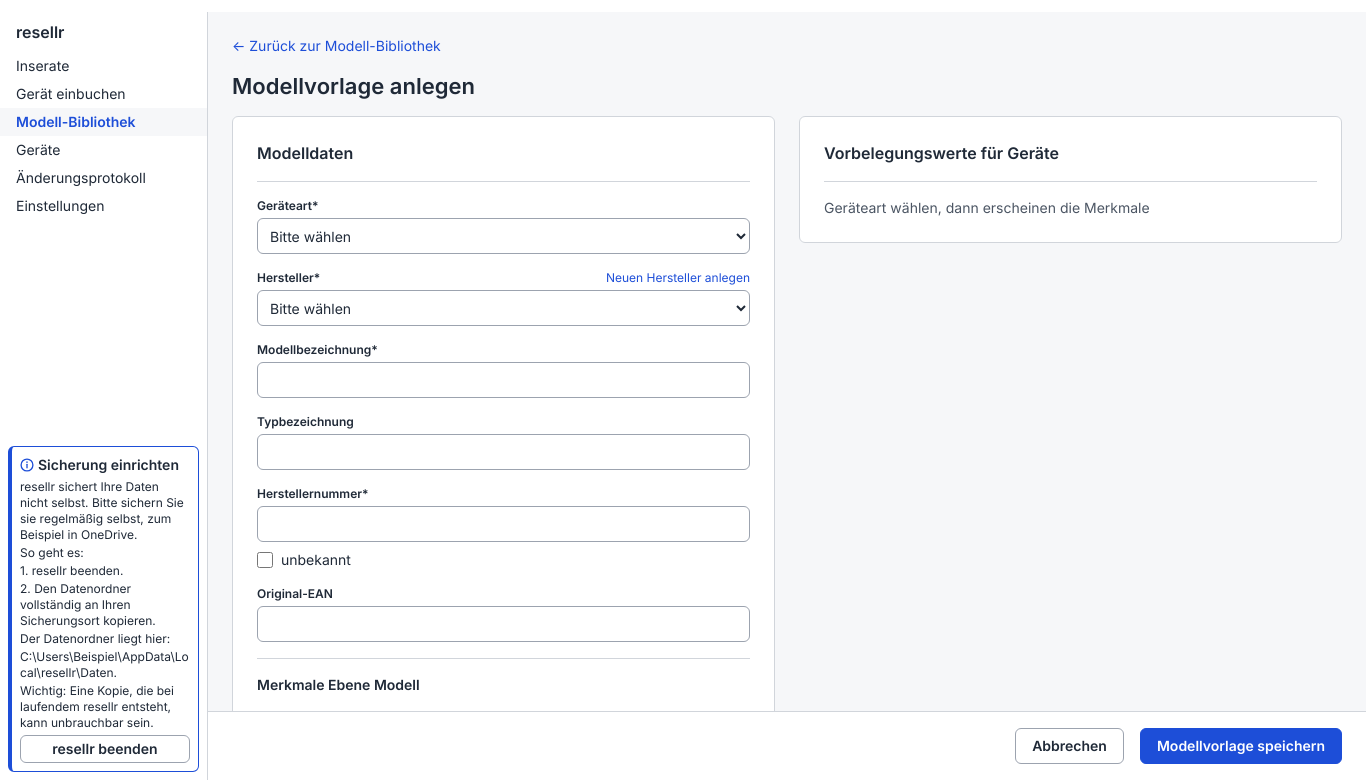
UI-007 attribute fields and device defaults (CU-111, CU-112, CU-114, #178) › AC-REQ-008-05 names a missing required attribute of the level model at its field with the focus there, and sends nothing
Select "Notebook" in the dropdown labelled "Geräteart*": (504, 236) [257,218,750,254]
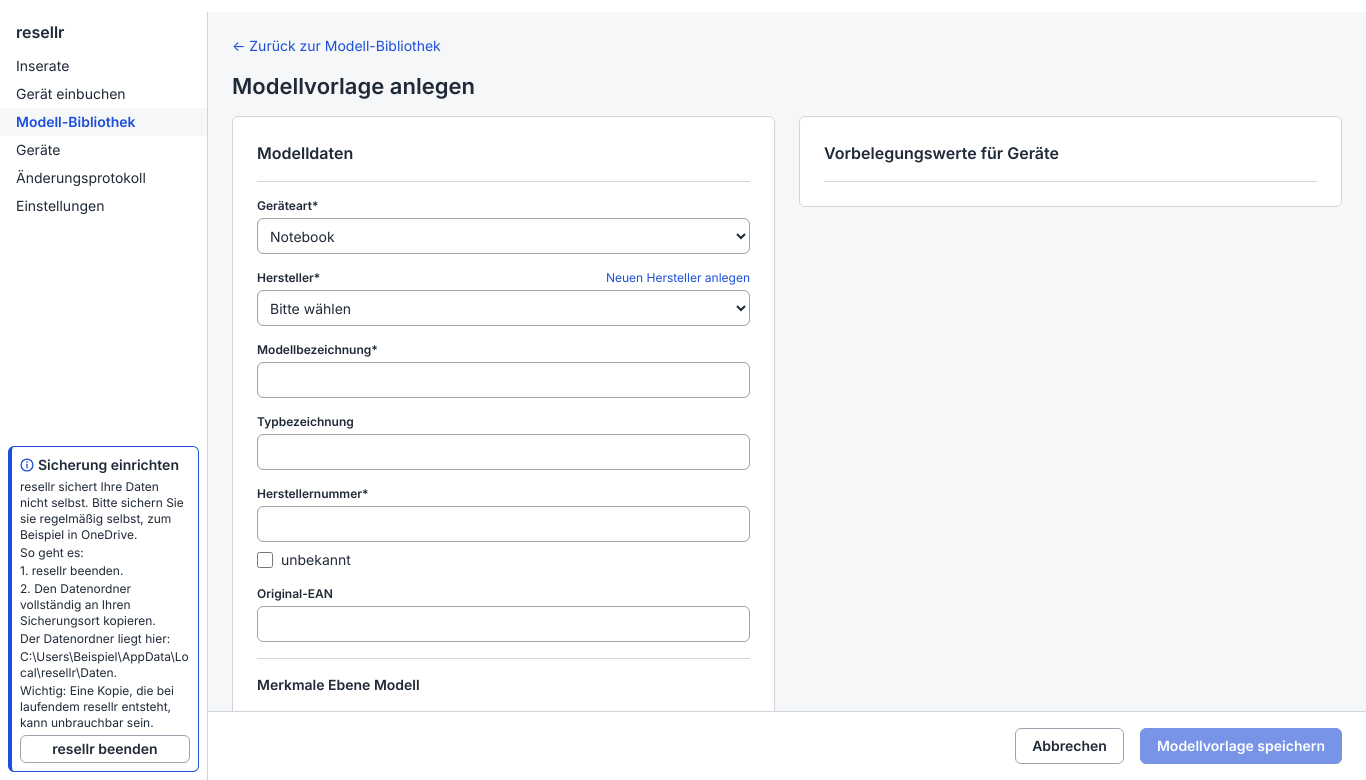
Select "Lenovo" in the dropdown labelled "Hersteller*": (504, 308) [257,290,750,326]
In the field labelled "Modellbezeichnung*": (504, 380) [257,362,750,398], type "ThinkPad E15 Gen 2"
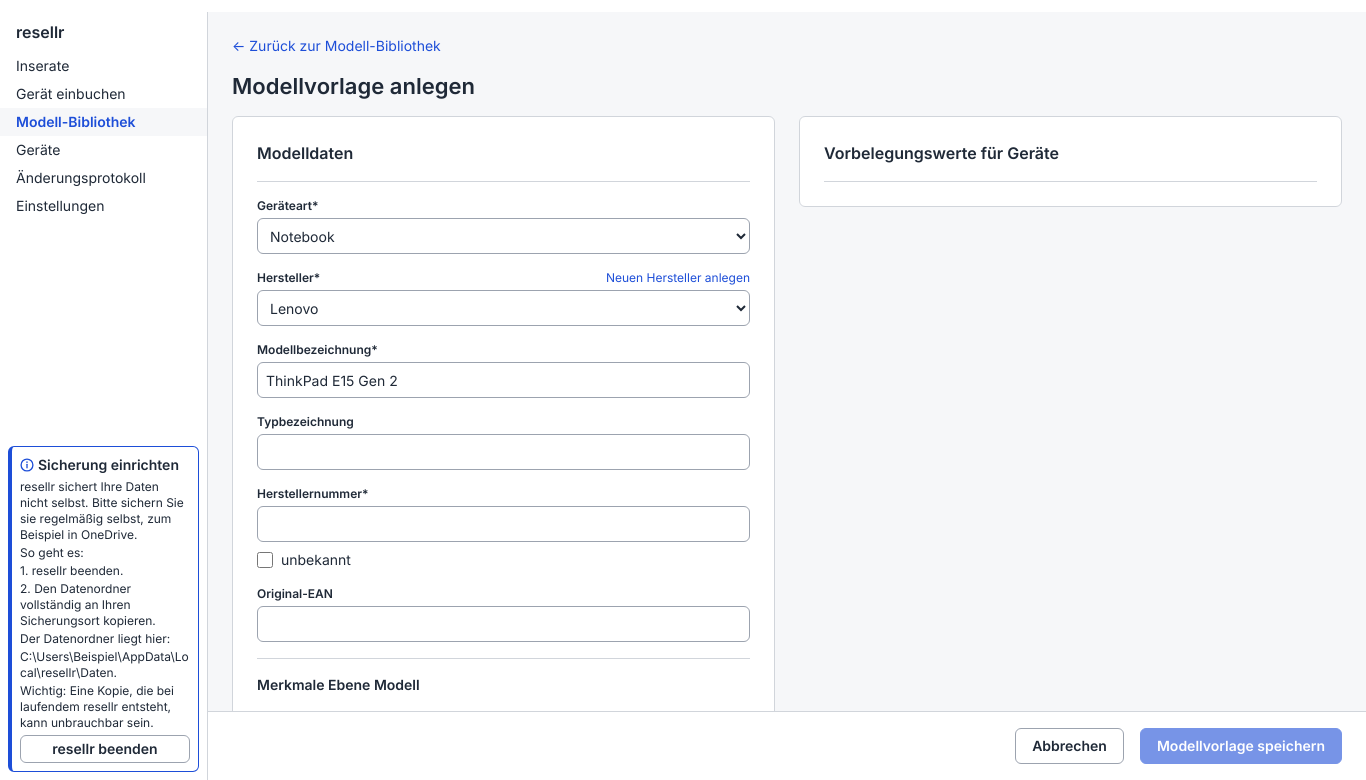
In the field labelled "Herstellernummer*": (504, 524) [257,506,750,542], type "20TD002MGE"
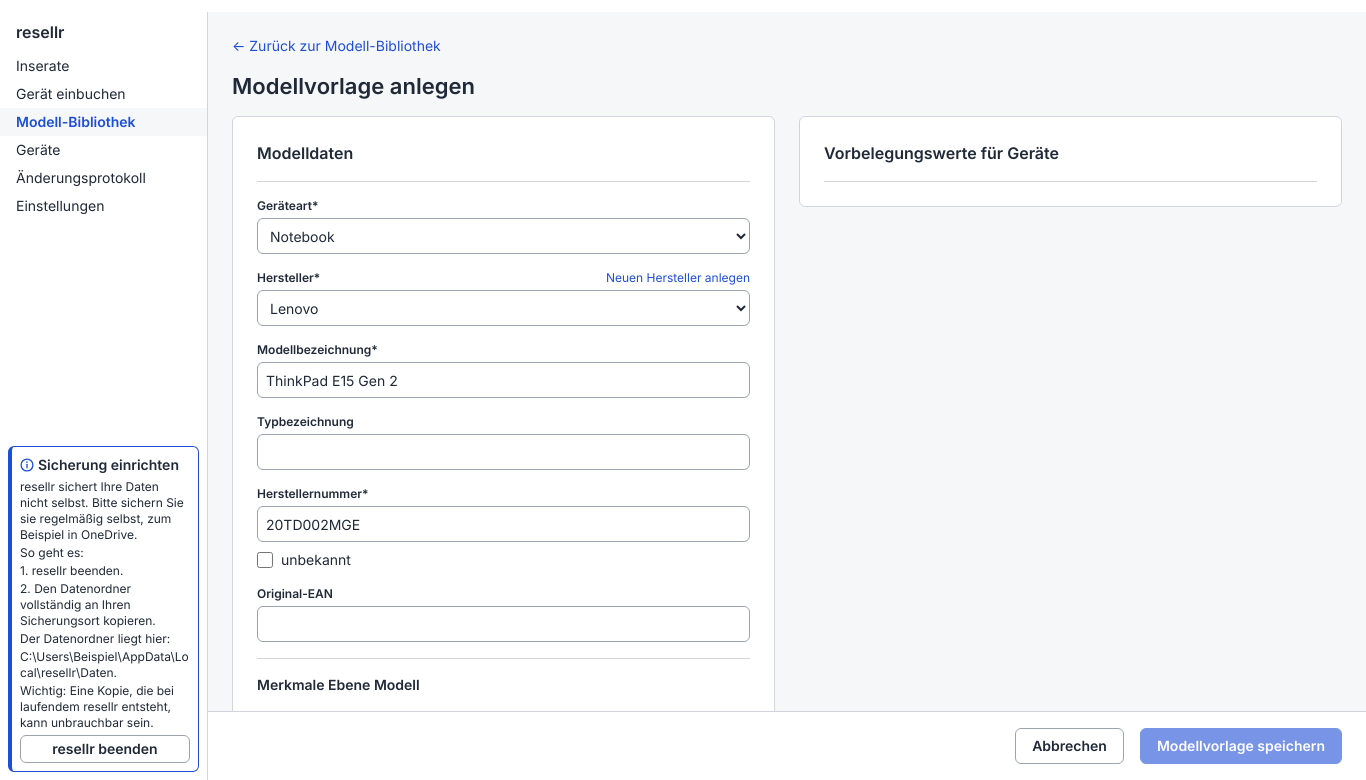
Clear the field labelled "Original-EAN": (504, 624) [257,606,750,642]
(page scrolled)
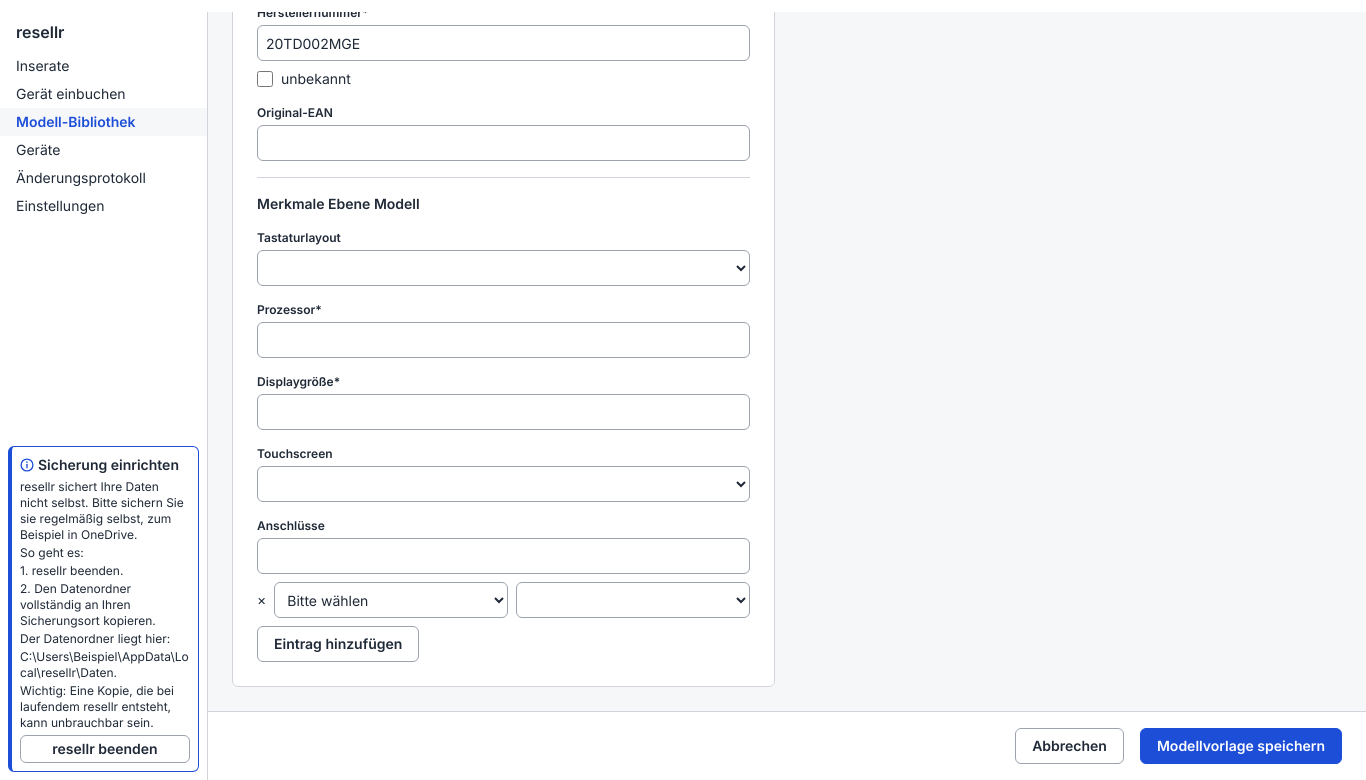
Result: the element named "Merkmale Ebene Modell" is shown at [257,230,750,662]
In the field labelled "Displaygröße*": (504, 412) [257,394,750,430], type "14"
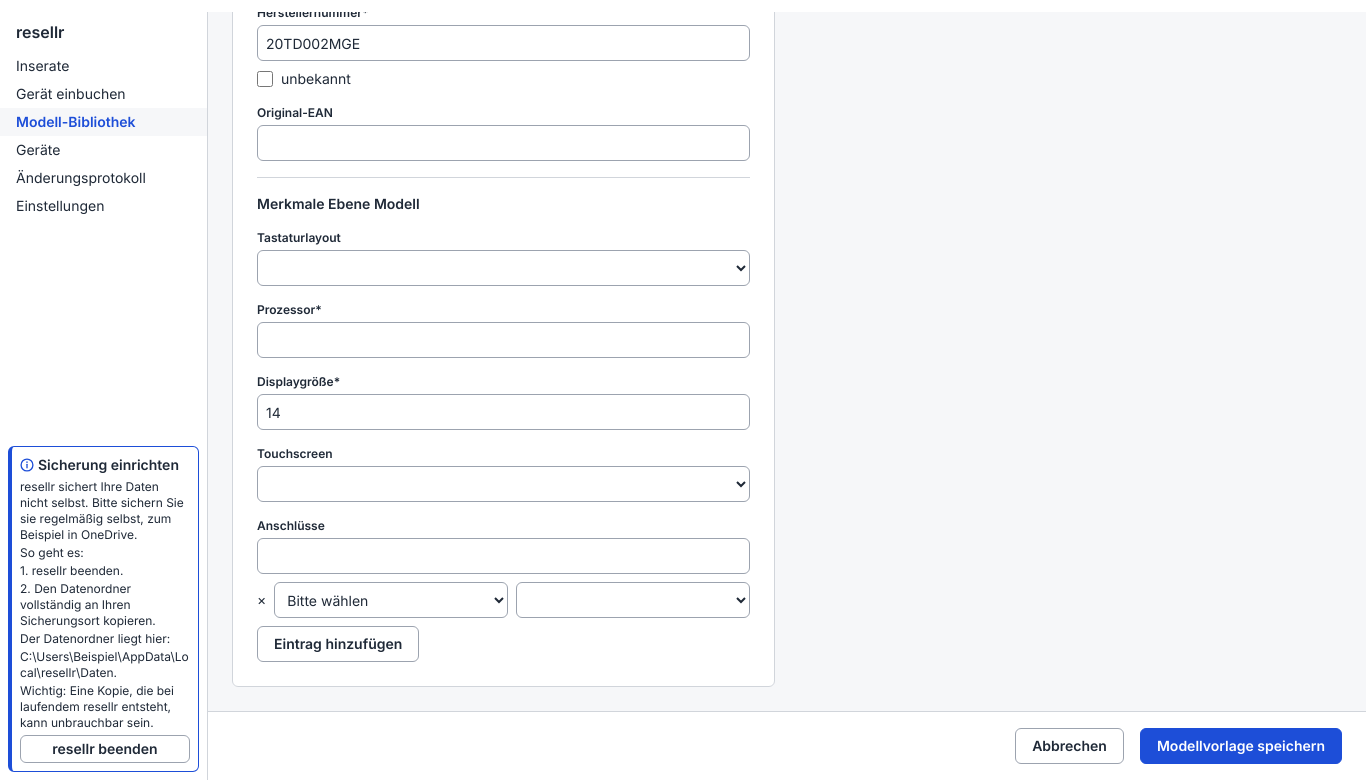
Click the button "Modellvorlage speichern": click(1241, 746) [1140,728,1342,764]
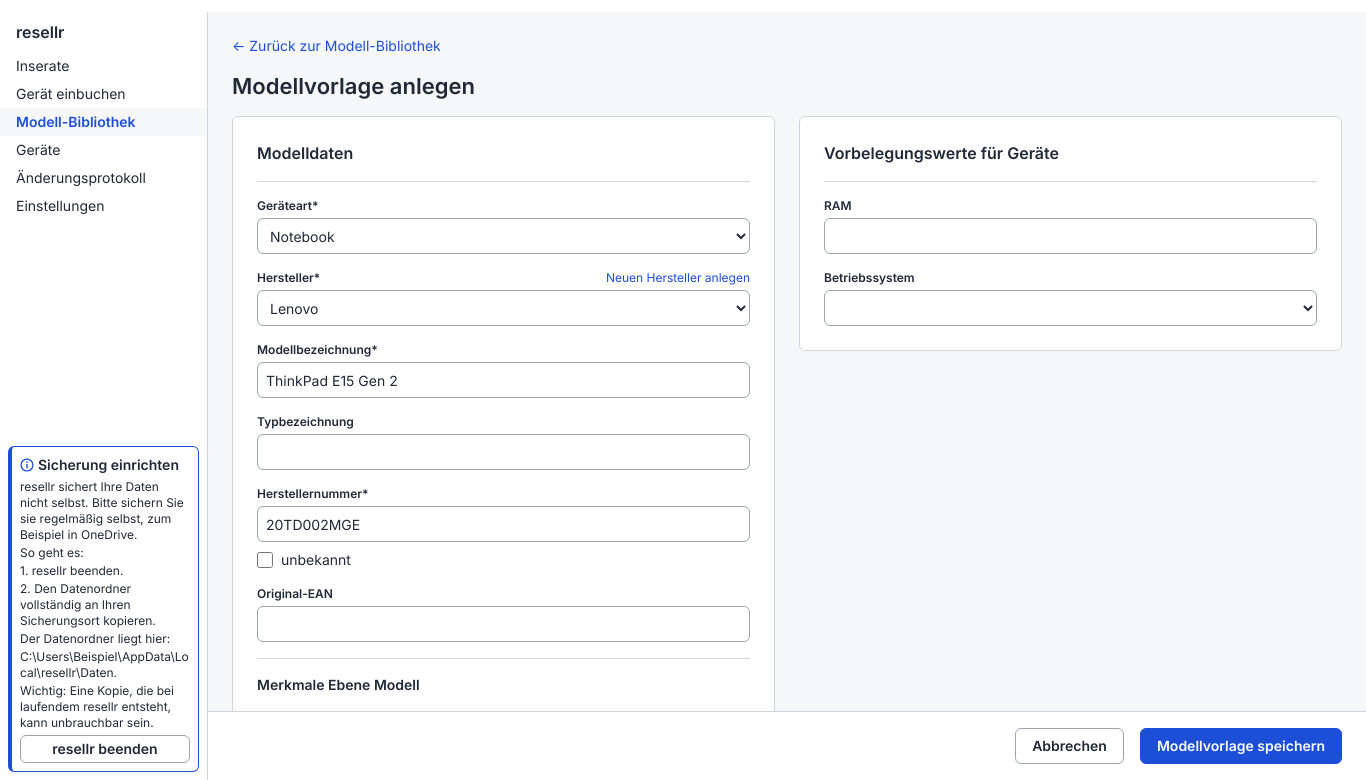
Result: the heading "Modellvorlage anlegen" is shown at [232,73,475,99]
